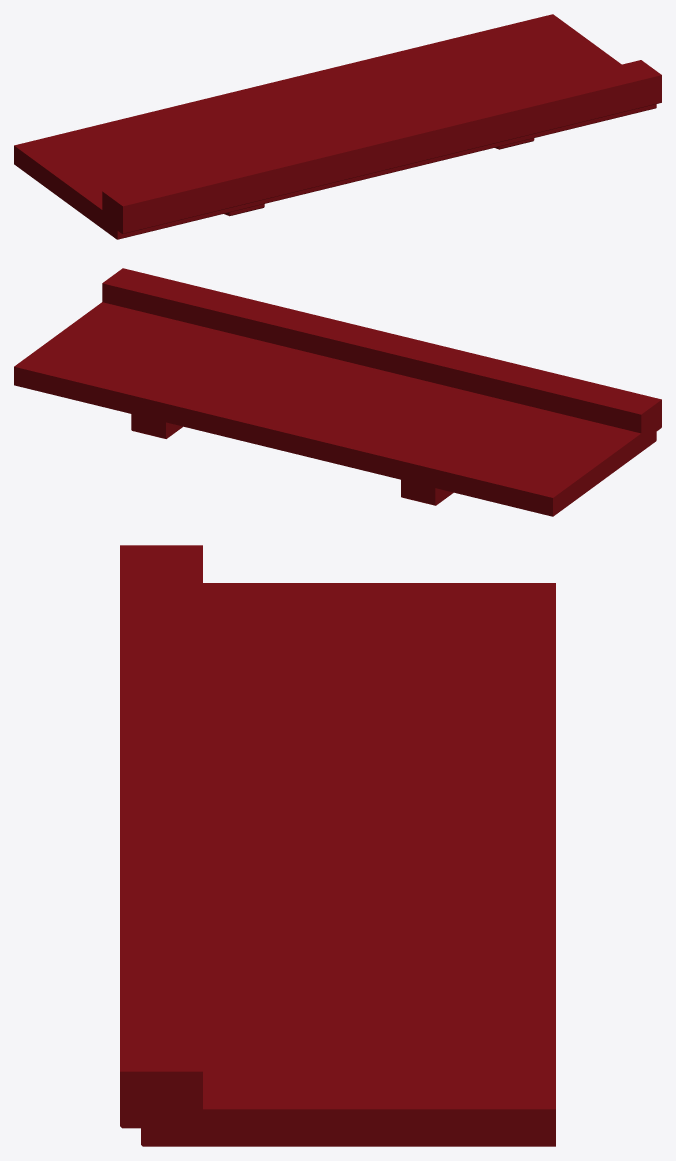
File: SM_MH_01_Wood_Porch_02.fbx
3 renders of one model, top to bottom at view 1: azimuth 30°, elevation 25°; view 2: azimuth 150°, elevation 25°; view 3: azimuth 270°, elevation 25°, orthographic. The views are drawn at different scales.
Parts seen in each view (by area): view 1: SM_MH_01_Wood_Porch_02_LOD0; view 2: SM_MH_01_Wood_Porch_02_LOD0; view 3: SM_MH_01_Wood_Porch_02_LOD0.
Boxes of the visible parts, x1,y1,x2,y2 form: SM_MH_01_Wood_Porch_02_LOD0: (14,14,661,239); SM_MH_01_Wood_Porch_02_LOD0: (14,268,661,516); SM_MH_01_Wood_Porch_02_LOD0: (120,545,555,1146).
Size of what is drawn, in the model's own units: 300 by 29.64 by 105.
